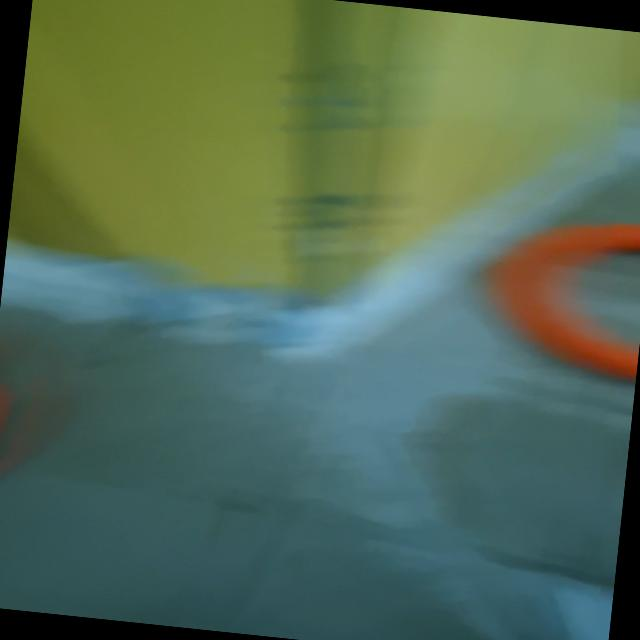note: (472, 206, 640, 381)
